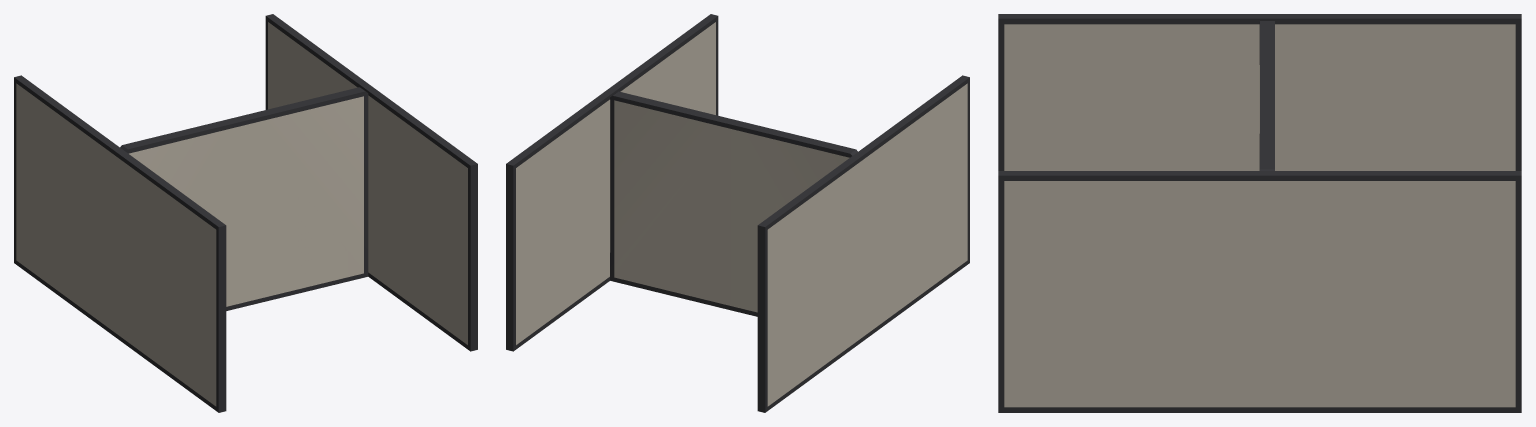
The model's file is 08_divider_full_H.glb.
The picture shows the model from 3 angles, left to right: view 1: azimuth 30°, elevation 25°; view 2: azimuth 150°, elevation 25°; view 3: azimuth 270°, elevation 25°; orthographic projection. The views are drawn at different scales.
Visible parts, largest first — view 1: PartitionDestructible_divider_full_h_BACK_BACK; view 2: PartitionDestructible_divider_full_h_BACK_BACK; view 3: PartitionDestructible_divider_full_h_BACK_BACK.
Boxes of the visible parts, box(x1,y1,x2,y2) form: PartitionDestructible_divider_full_h_BACK_BACK: box(14, 14, 477, 412); PartitionDestructible_divider_full_h_BACK_BACK: box(506, 14, 969, 412); PartitionDestructible_divider_full_h_BACK_BACK: box(998, 14, 1521, 412).
Size of the model in its own units: 2.19 by 1.5 by 3.
